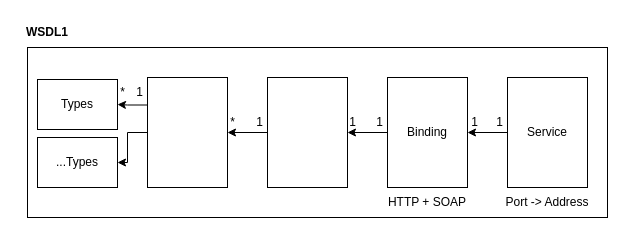
The diagram is 625 pixels wide and 235 high, and some of its shapes have lost their labels. Here are the shapes that lost their labels. From the top down, the box of each, then its label:
(146, 76, 228, 188): Message
(266, 76, 348, 188): Port Type
